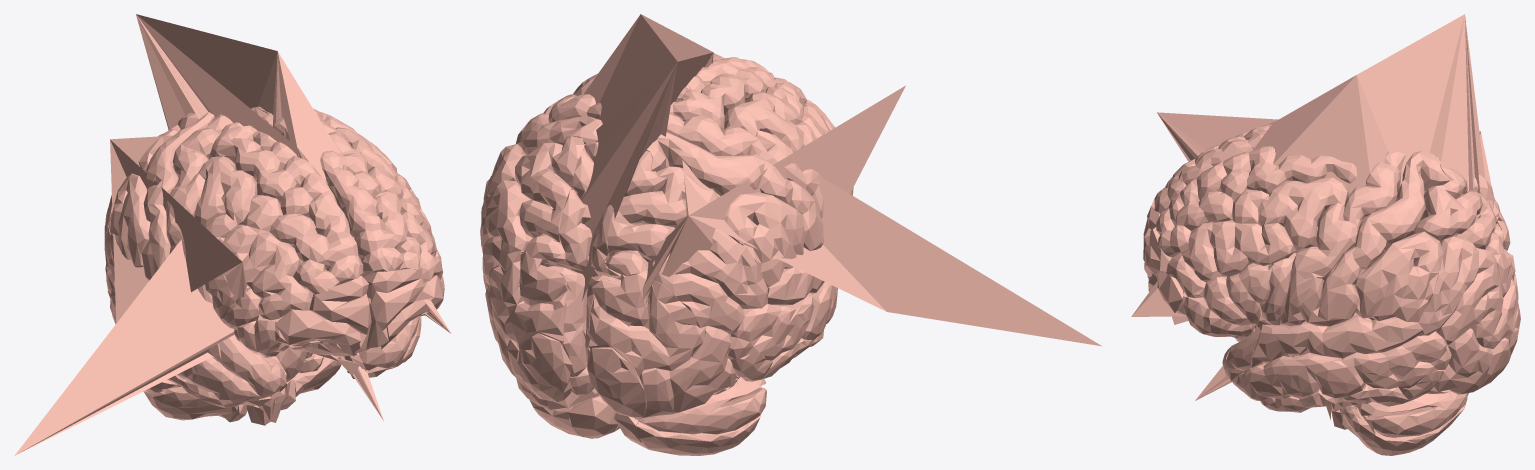
Rendered from Allen_M_Brain_0.1.glb.
3 renders of one model, left to right at view 1: azimuth 30°, elevation 25°; view 2: azimuth 150°, elevation 25°; view 3: azimuth 270°, elevation 25°, orthographic. The views are drawn at different scales.
Visible parts, largest first — view 1: Allen_white_matter_of_forebrain_L, Allen_white_matter_of_forebrain_R, Allen_superior_frontal_gyrus_L, Allen_middle_frontal_gyrus_L, Allen_superior_frontal_gyrus_R, Allen_postcentral_gyrus_L, Allen_middle_frontal_gyrus_R, Allen_precentral_gyrus_L, Allen_rostral_gyrus_R, Allen_supramarginal_gyrus_L, Allen_rostral_gyrus_L, Allen_temporal_pole_L (+12 smaller); view 2: Allen_white_matter_of_forebrain_L, Allen_white_matter_of_forebrain_R, Allen_superior_occipital_gyrus_L, Allen_supraparietal_lobule_L, Allen_angular_gyrus_L, Allen_lateral_hemisphere_of_cerebellum_L, Allen_postcentral_gyrus_L, Allen_superior_occipital_gyrus_R, Allen_supraparietal_lobule_R, Allen_inferior_occipital_gyrus_L, Allen_supramarginal_gyrus_L, Allen_middle_temporal_gyrus_L (+17 smaller); view 3: Allen_white_matter_of_forebrain_R, Allen_middle_frontal_gyrus_R, Allen_middle_temporal_gyrus_R, Allen_superior_frontal_gyrus_R, Allen_postcentral_gyrus_R, Allen_precentral_gyrus_R, Allen_supramarginal_gyrus_R, Allen_angular_gyrus_R, Allen_superior_temporal_gyrus_R, Allen_lateral_hemisphere_of_cerebellum_R, Allen_supraparietal_lobule_R, Allen_inferior_frontal_gyrus_triangular_part_R (+11 smaller).
Part boxes in pixels (x1=…): Allen_white_matter_of_forebrain_L: x1=14, y1=135, x2=247, y2=455; Allen_white_matter_of_forebrain_R: x1=136, y1=14, x2=451, y2=420; Allen_superior_frontal_gyrus_L: x1=209, y1=122, x2=363, y2=295; Allen_middle_frontal_gyrus_L: x1=194, y1=156, x2=313, y2=320; Allen_superior_frontal_gyrus_R: x1=265, y1=111, x2=421, y2=276; Allen_postcentral_gyrus_L: x1=141, y1=112, x2=214, y2=280; Allen_middle_frontal_gyrus_R: x1=335, y1=127, x2=442, y2=282; Allen_precentral_gyrus_L: x1=166, y1=114, x2=233, y2=258; Allen_rostral_gyrus_R: x1=363, y1=267, x2=424, y2=348; Allen_supramarginal_gyrus_L: x1=108, y1=173, x2=150, y2=267; Allen_rostral_gyrus_L: x1=309, y1=275, x2=371, y2=352; Allen_temporal_pole_L: x1=219, y1=334, x2=286, y2=399; Allen_white_matter_of_forebrain_L: x1=621, y1=85, x2=1101, y2=346; Allen_white_matter_of_forebrain_R: x1=574, y1=14, x2=713, y2=300; Allen_superior_occipital_gyrus_L: x1=588, y1=270, x2=705, y2=378; Allen_supraparietal_lobule_L: x1=605, y1=151, x2=718, y2=276; Allen_angular_gyrus_L: x1=650, y1=229, x2=767, y2=334; Allen_lateral_hemisphere_of_cerebellum_L: x1=636, y1=377, x2=766, y2=455; Allen_postcentral_gyrus_L: x1=646, y1=132, x2=824, y2=251; Allen_superior_occipital_gyrus_R: x1=489, y1=250, x2=567, y2=349; Allen_supraparietal_lobule_R: x1=515, y1=136, x2=584, y2=258; Allen_inferior_occipital_gyrus_L: x1=639, y1=326, x2=737, y2=418; Allen_supramarginal_gyrus_L: x1=724, y1=192, x2=804, y2=287; Allen_middle_temporal_gyrus_L: x1=728, y1=282, x2=837, y2=360; Allen_white_matter_of_forebrain_R: x1=1131, y1=14, x2=1485, y2=400; Allen_middle_frontal_gyrus_R: x1=1166, y1=177, x2=1349, y2=298; Allen_middle_temporal_gyrus_R: x1=1231, y1=331, x2=1451, y2=401; Allen_superior_frontal_gyrus_R: x1=1156, y1=146, x2=1356, y2=257; Allen_postcentral_gyrus_R: x1=1306, y1=151, x2=1449, y2=326; Allen_precentral_gyrus_R: x1=1280, y1=151, x2=1405, y2=326; Allen_supramarginal_gyrus_R: x1=1354, y1=231, x2=1443, y2=322; Allen_angular_gyrus_R: x1=1418, y1=236, x2=1497, y2=344; Allen_superior_temporal_gyrus_R: x1=1251, y1=317, x2=1423, y2=367; Allen_lateral_hemisphere_of_cerebellum_R: x1=1337, y1=391, x2=1468, y2=455; Allen_supraparietal_lobule_R: x1=1412, y1=162, x2=1504, y2=255; Allen_inferior_frontal_gyrus_triangular_part_R: x1=1203, y1=263, x2=1273, y2=325.
Bounding box in the file's own units: 0.2314 × 0.187 × 0.1726.
